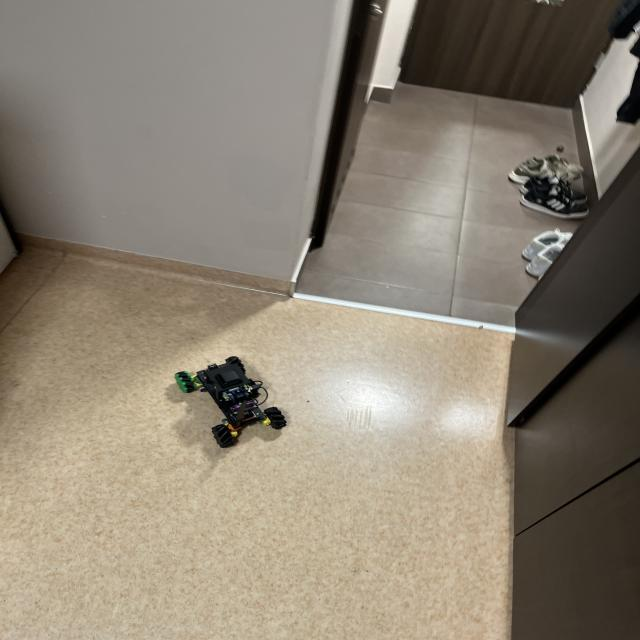robot: (175, 356, 287, 447)
